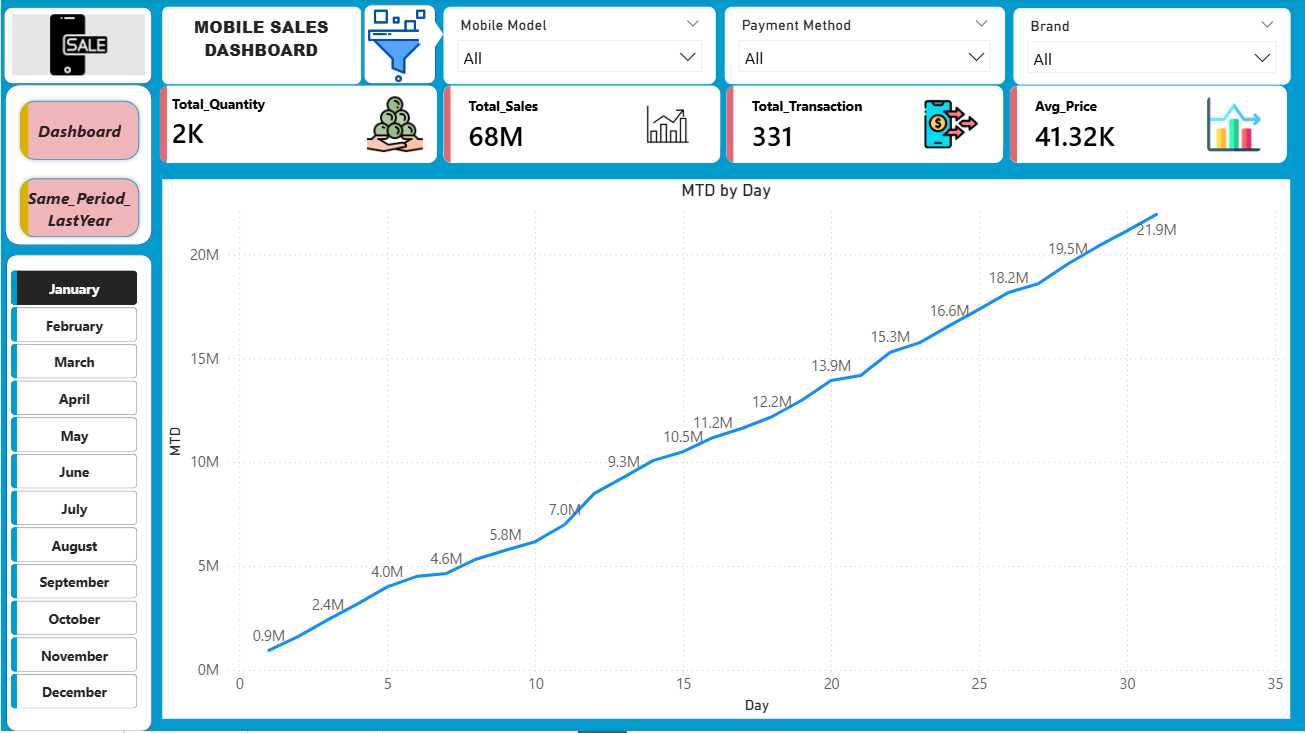

The dashboard page shown, as its layout file describes it:
{"tool":"powerbi","page":{"name":"MTD Report","canvas":[1280,720],"ordinal":1},"visuals":[{"type":"shape","box":[2.5,8.6,146,76.1],"z":0},{"type":"shape","box":[3.7,84.7,144.8,158.3],"z":1000},{"type":"cardVisual","fields":{"Data":["Mobile_Sales_Data.Total_Quantity","Mobile_Sales_Data.Total_Sales","Mobile_Sales_Data.Total_Transaction","Mobile_Sales_Data.Avg_Price"]},"box":[140,70,1140.3,108.4],"z":2000},{"type":"slicer","fields":{"Values":["Mobile_Sales_Data.Mobile Model"]},"box":[434.4,8.6,267.5,76.1],"z":3000},{"type":"slicer","fields":{"Values":["Mobile_Sales_Data.Payment Method"]},"box":[710.4,8.6,274.8,76.1],"z":4000},{"type":"slicer","fields":{"Values":["Mobile_Sales_Data.Brand"]},"box":[994,10,272,75],"z":5000},{"type":"shape","box":[355.8,6.1,71.2,78.5],"z":6000},{"type":"image","box":[353.4,8.6,73.6,76.1],"z":7000},{"type":"shape","box":[409.8,17.2,24.5,36.8],"z":8000},{"type":"textbox","box":[158.3,8.6,195.1,76.1],"z":9000},{"type":"lineChart","fields":{"Y":["Mobile_Sales_Data.MTD"],"Category":["Custom_Date.Date.Variation.Date Hierarchy.Day"]},"box":[157.8,178.4,1107.4,529.7],"z":10000},{"type":"shape","box":[4.9,251.3,143.6,468.7],"z":11000},{"type":"advancedSlicerVisual","fields":{"Values":["Custom_Date.Date.Variation.Date Hierarchy.Month"]},"box":[5.5,262.1,134.5,446],"z":12000},{"type":"pageNavigator","box":[14.7,96.9,125.2,143.6],"z":13000},{"type":"image","box":[11,16,130.1,60.1],"z":14000}]}

Visuals, with their boxes in screenshot pixels (x1, y1, x2, y2), scaled from the page's 1280x720 canvas onto the 1305x733 screenshot:
shape: [3,9,151,86]
shape: [4,86,151,247]
cardVisual - Mobile_Sales_Data.Total_Quantity x Mobile_Sales_Data.Total_Sales: [143,71,1304,182]
slicer - Mobile_Sales_Data.Mobile Model: [443,9,716,86]
slicer - Mobile_Sales_Data.Payment Method: [724,9,1004,86]
slicer - Mobile_Sales_Data.Brand: [1013,10,1291,87]
shape: [363,6,435,86]
image: [360,9,435,86]
shape: [418,18,443,55]
textbox: [161,9,360,86]
lineChart - Mobile_Sales_Data.MTD x Custom_Date.Date.Variation.Date Hierarchy.Day: [161,182,1290,721]
shape: [5,256,151,732]
advancedSlicerVisual - Custom_Date.Date.Variation.Date Hierarchy.Month: [6,267,143,721]
pageNavigator: [15,99,143,245]
image: [11,16,144,77]
